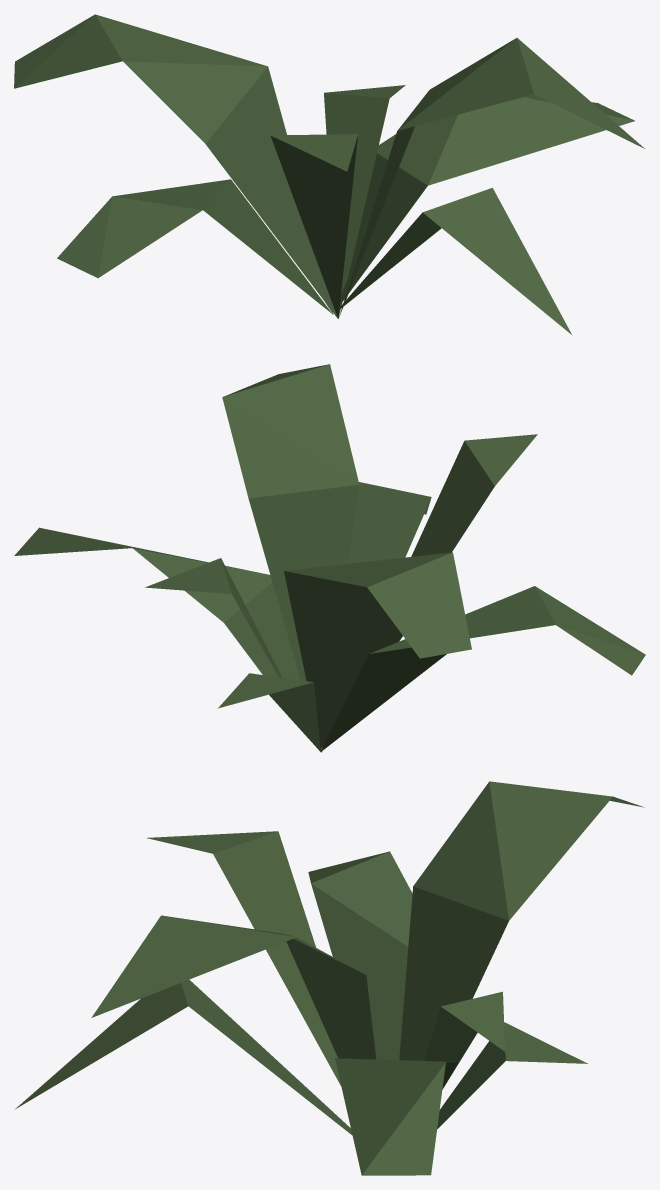
The model's file is qn_plant_a.glb.
The picture shows the model from 3 angles, top to bottom: view 1: azimuth 30°, elevation 25°; view 2: azimuth 150°, elevation 25°; view 3: azimuth 270°, elevation 25°; orthographic projection. The views are drawn at different scales.
Visible parts, largest first — view 1: qn_plant_a; view 2: qn_plant_a; view 3: qn_plant_a.
Part boxes in pixels (x1,y1,x2,y2): qn_plant_a: (14,14,644,335); qn_plant_a: (14,364,645,752); qn_plant_a: (15,781,644,1175).
Size of the model in its own units: 1.09 by 0.505 by 0.9247.
